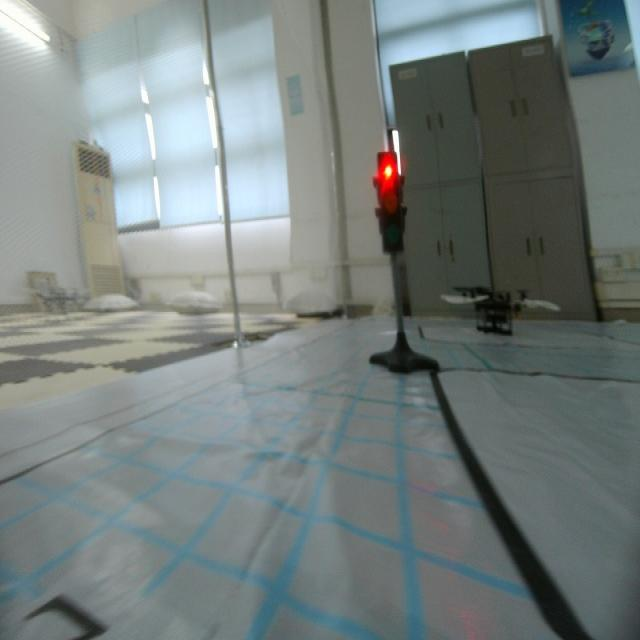red: (371, 148, 407, 258)
